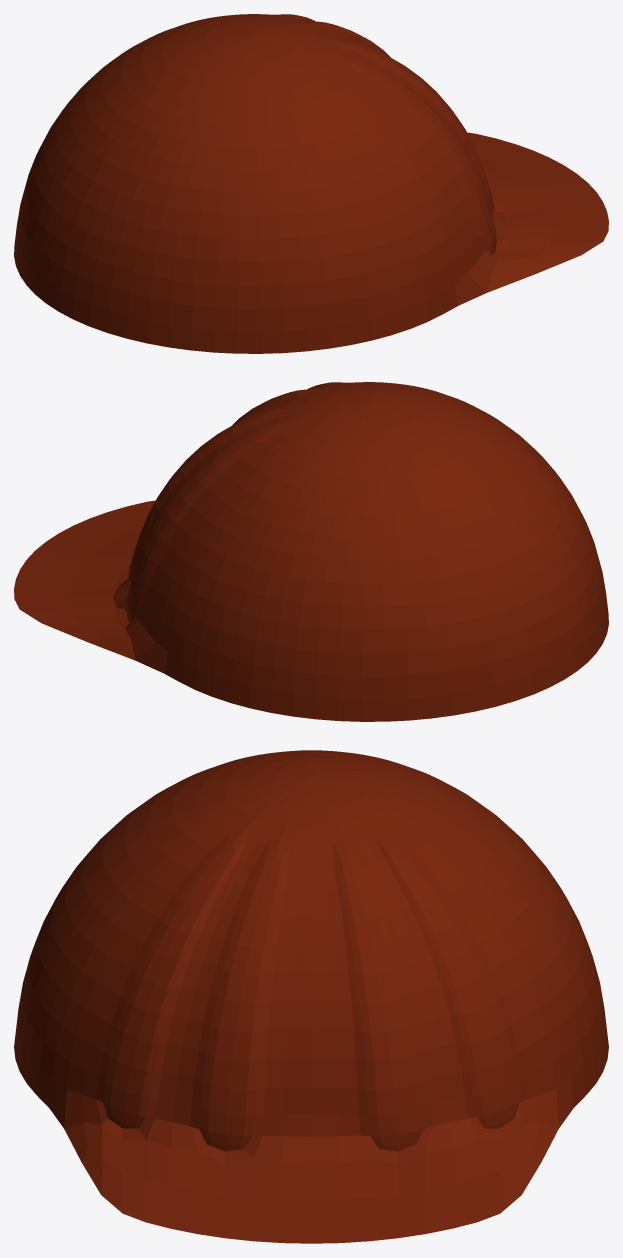
Rendered from liteo_face_model_1.gltf.
3 renders of one model, top to bottom at view 1: azimuth 30°, elevation 25°; view 2: azimuth 150°, elevation 25°; view 3: azimuth 270°, elevation 25°, orthographic. The views are drawn at different scales.
Visible parts, largest first — view 1: Сфера; view 2: Сфера; view 3: Сфера.
Boxes of the visible parts, x1,y1,x2,y2 form: Сфера: (14, 14, 608, 353); Сфера: (14, 382, 608, 721); Сфера: (14, 750, 608, 1243).
Size of the model in its own units: 2.55 by 0.9976 by 1.99.
